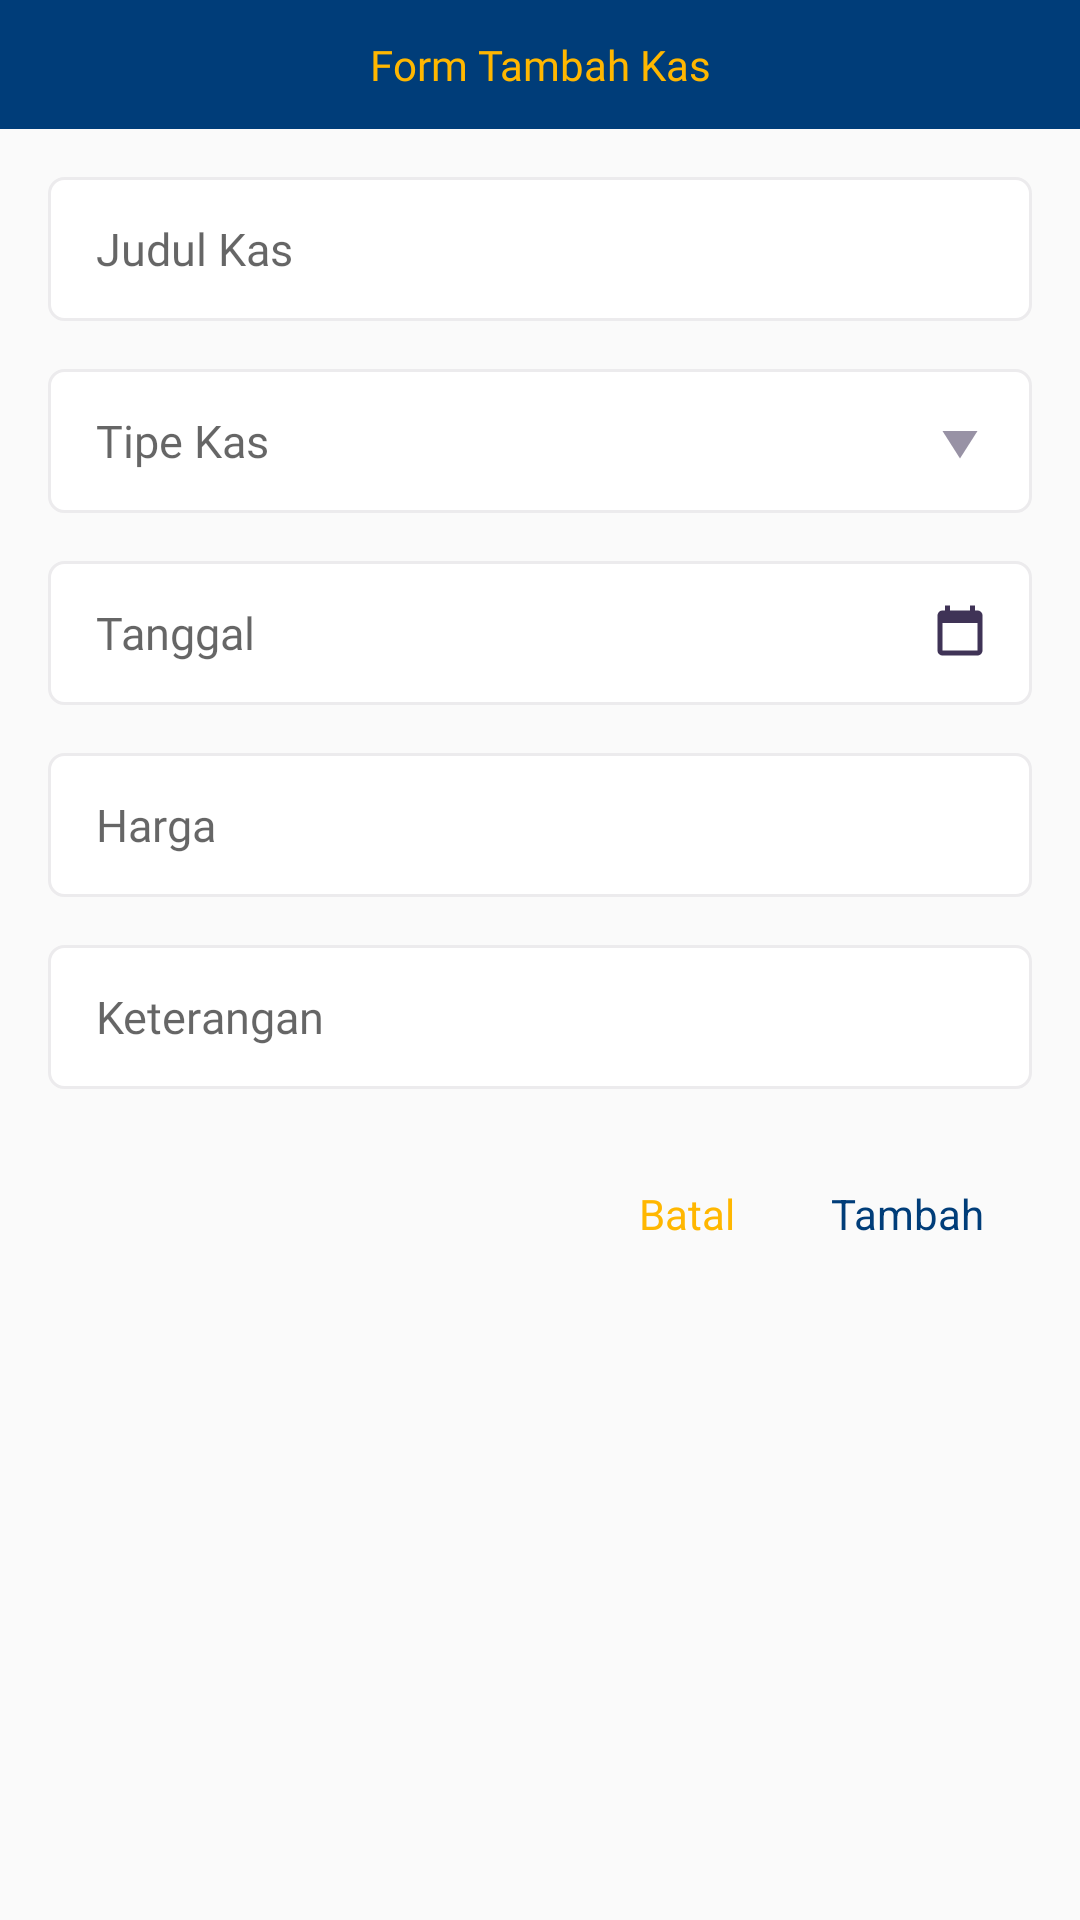

Where to tap for icons on this 1080 × 1920 app screen, as (x,y):
calendar: (960,630)
dropdown: (960,444)
